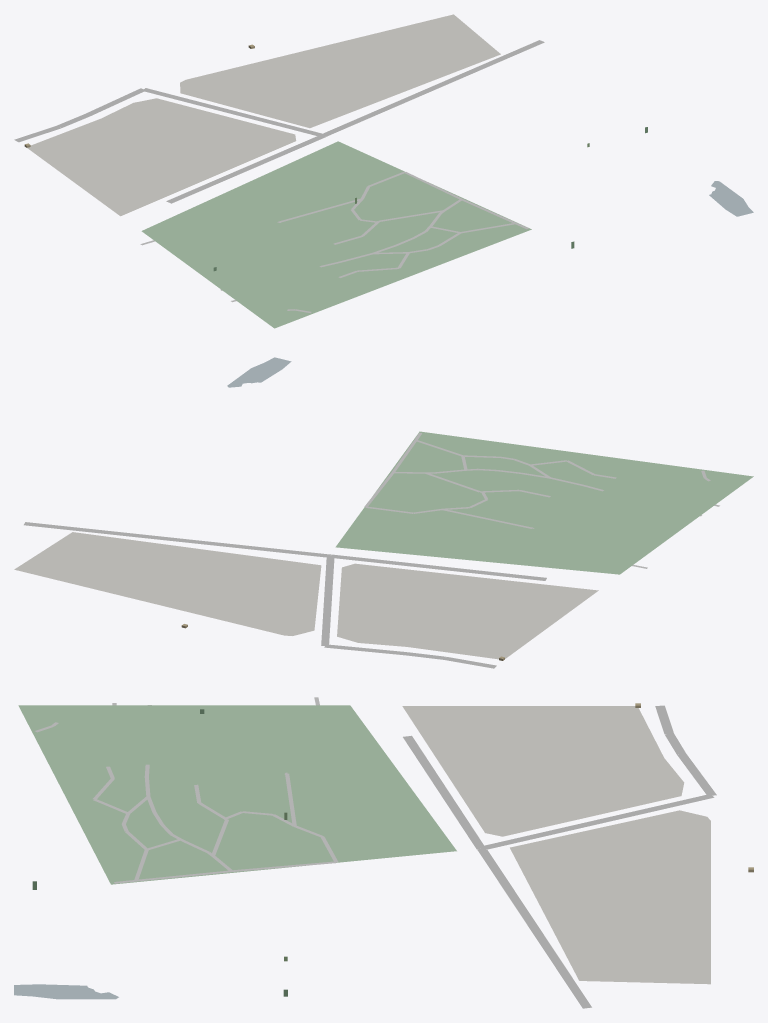
3 renders of one model, top to bottom at view 1: azimuth 30°, elevation 25°; view 2: azimuth 150°, elevation 25°; view 3: azimuth 270°, elevation 25°, orthographic. The views are drawn at different scales.
Bounding box in the file's own units: 528 × 8.19 × 531.
